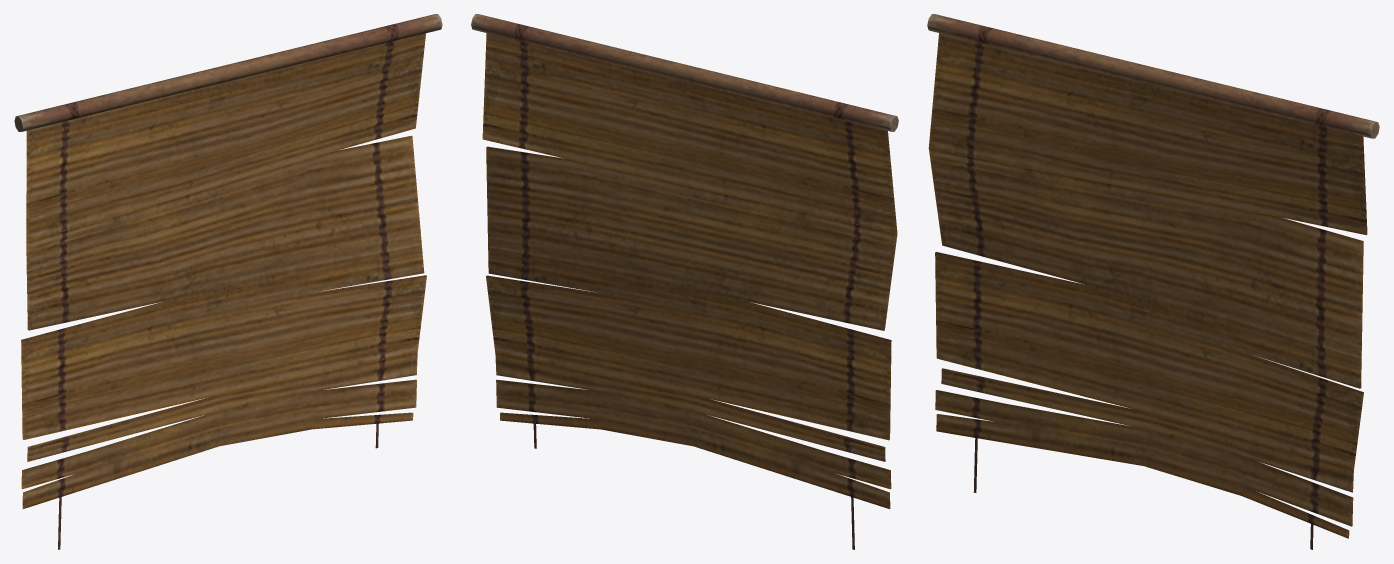
Rendered from i_zx_zhuxi01_04.FBX.
3 views of the same model, side by side, from view 1: azimuth 30°, elevation 25°; view 2: azimuth 150°, elevation 25°; view 3: azimuth 330°, elevation 25° (orthographic). The views are drawn at different scales.
Parts seen in each view (by area): view 1: i_zx_zhuxi01_04; view 2: i_zx_zhuxi01_04; view 3: i_zx_zhuxi01_04.
Part boxes in pixels (left/top/right/bottom): i_zx_zhuxi01_04: left=14, top=14, right=442, bottom=549; i_zx_zhuxi01_04: left=471, top=14, right=898, bottom=549; i_zx_zhuxi01_04: left=927, top=14, right=1379, bottom=549.
Bounding box in the file's own units: 2.28 × 2.31 × 0.1271.
